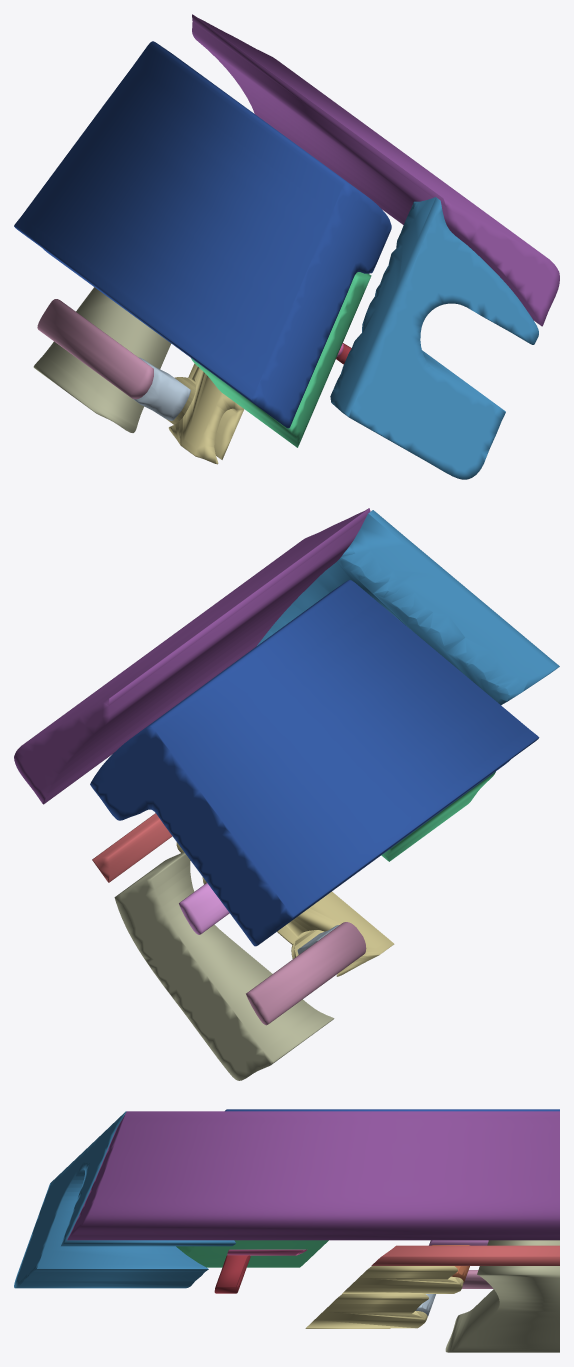
The model's file is overhangSupport.glb.
3 views of the same model, one above another, from view 1: azimuth 30°, elevation 25°; view 2: azimuth 150°, elevation 25°; view 3: azimuth 270°, elevation 25° (orthographic). The views are drawn at different scales.
Parts seen in each view (by area): view 1: world; view 2: world; view 3: world.
Boxes of the visible parts, <box> form: world: <box>14,14,559,479</box>; world: <box>14,508,559,1080</box>; world: <box>14,1109,559,1352</box>.
Bounding box in the file's own units: 58.89 × 70.69 × 119.
